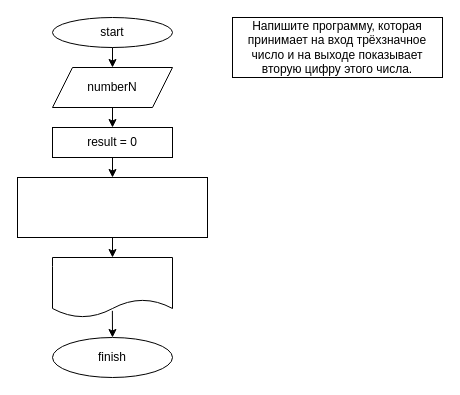
The diagram is 460 pixels wide and 395 high, and some of its shapes have lost their labels. Here are the shapes that lost their labels. From the top down, the centre of each, then its label:
At (x=112, y=207): "result = (numberN %100)/10".
At (x=112, y=287): "result".
